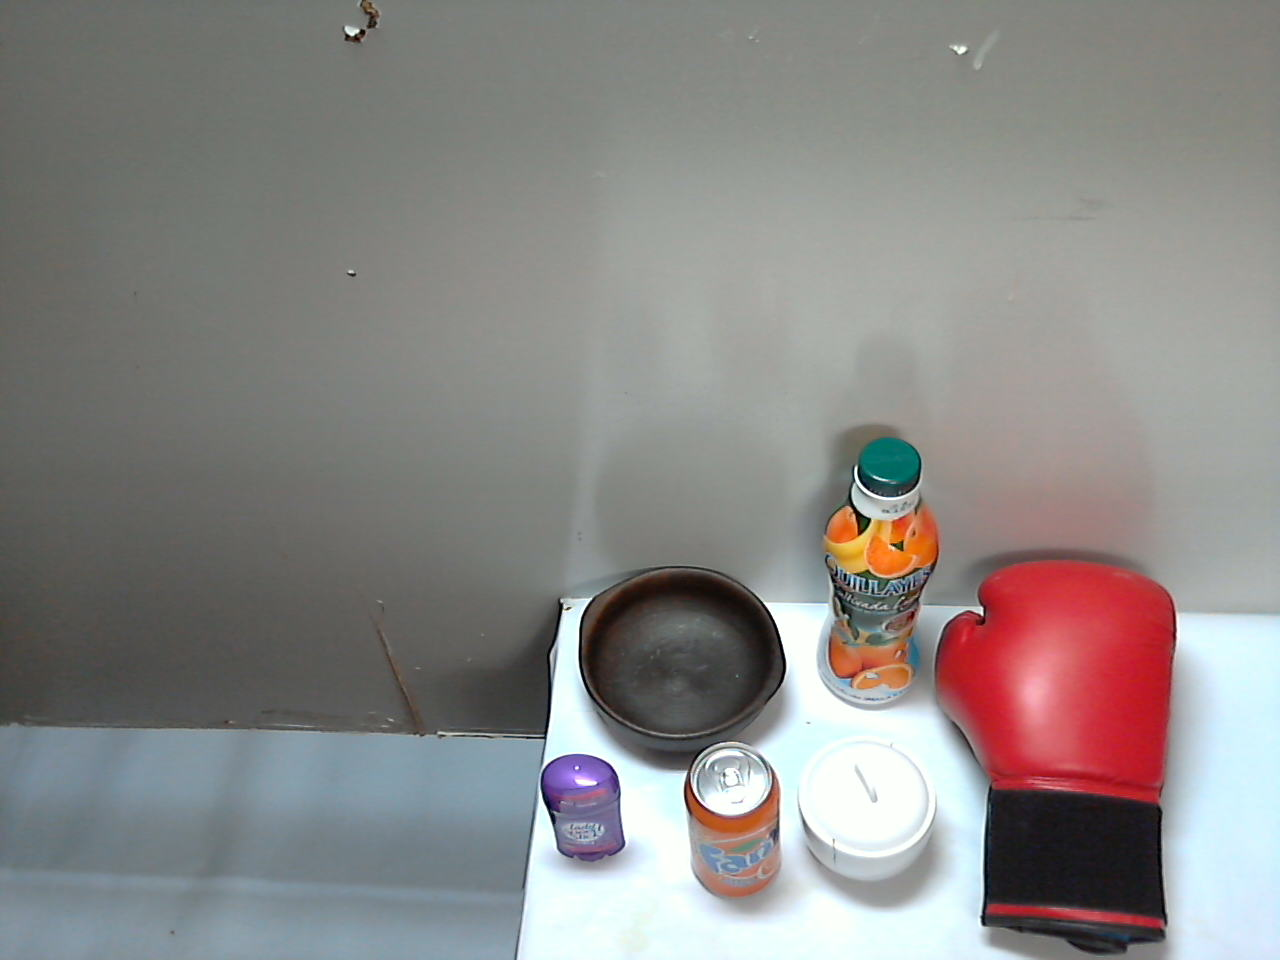aerosol: (966, 547, 1110, 789)
cloroplano: (508, 514, 698, 825)
coca: (735, 564, 821, 756)
crema: (835, 619, 927, 756)
estuche: (703, 769, 959, 931)
pelota: (986, 809, 1104, 926)
